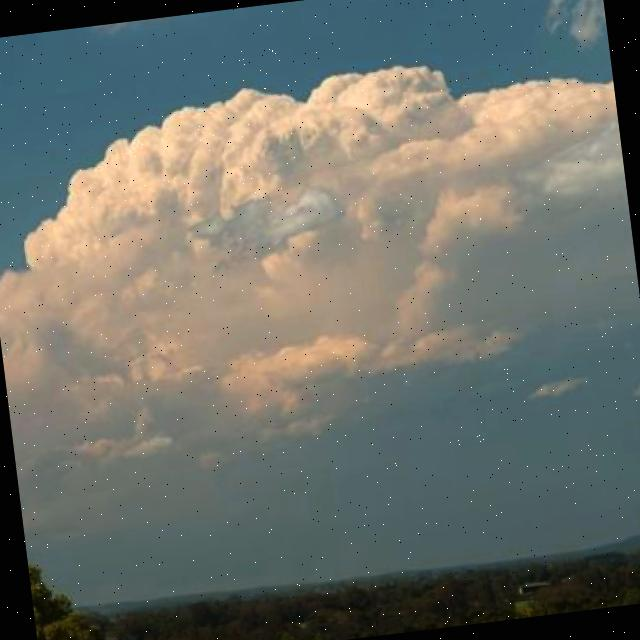Cb: (1, 22, 640, 459)
